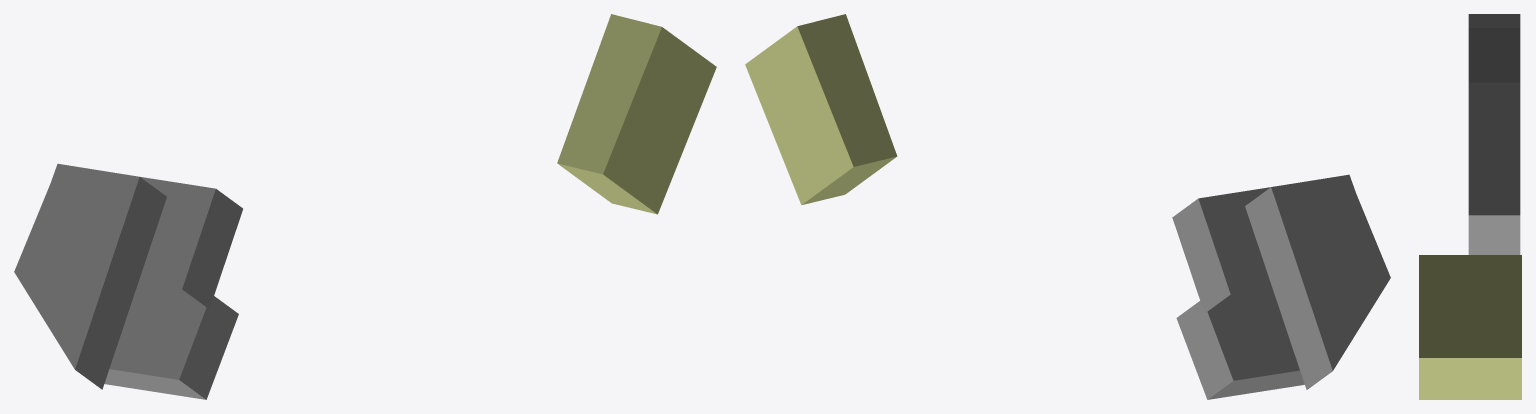
The picture shows the model from 3 angles, left to right: view 1: azimuth 30°, elevation 25°; view 2: azimuth 150°, elevation 25°; view 3: azimuth 270°, elevation 25°; orthographic projection. The views are drawn at different scales.
Parts seen in each view (by area): view 1: 0_1_0_0_2_1_0_3_3; view 2: 0_1_0_0_2_1_0_3_3; view 3: 0_1_0_0_2_1_0_3_3.
Part boxes in pixels (bbox=[...]): 0_1_0_0_2_1_0_3_3: bbox=[14, 14, 716, 399]; 0_1_0_0_2_1_0_3_3: bbox=[745, 14, 1390, 399]; 0_1_0_0_2_1_0_3_3: bbox=[1419, 14, 1521, 399].
Size of the model in its own units: 41.02 by 15.68 by 6.
